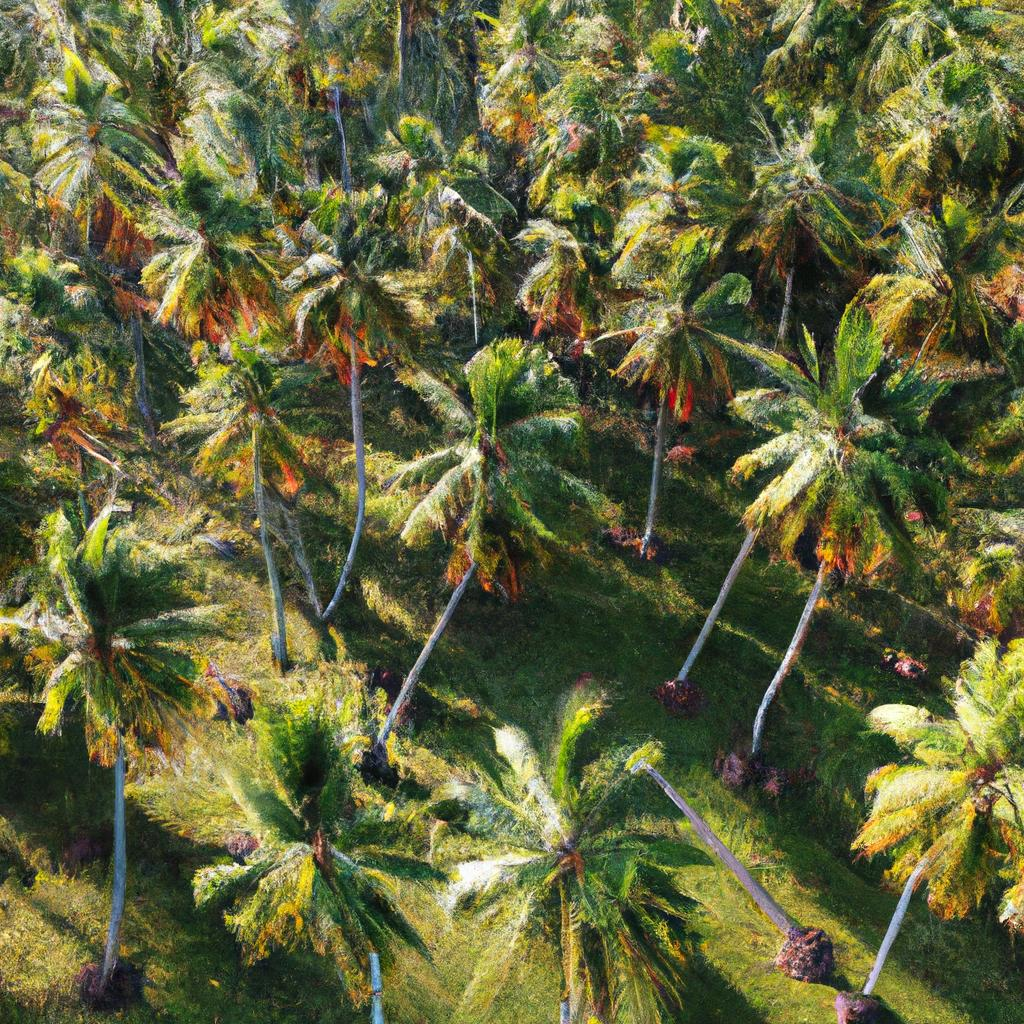coconut_tree: (451, 661, 771, 1010), (139, 640, 449, 980), (706, 289, 989, 562), (381, 337, 632, 608), (11, 474, 226, 767)
